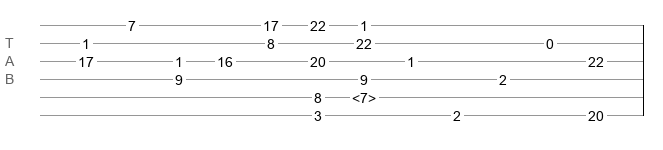0: (546, 36, 554, 46)
1: (82, 36, 90, 46), (175, 54, 183, 64), (360, 18, 368, 28), (407, 54, 415, 64)
16: (217, 54, 233, 64)
17: (78, 54, 94, 64), (263, 18, 279, 28)
2: (453, 108, 461, 118), (499, 72, 507, 82)
20: (310, 54, 326, 64), (588, 108, 604, 118)
22: (310, 18, 326, 28), (356, 36, 372, 46), (588, 54, 604, 64)
3: (314, 108, 322, 118)
7: (128, 18, 136, 28)
8: (267, 36, 275, 46), (314, 90, 322, 100)
9: (175, 72, 183, 82), (360, 72, 368, 82)
harmonic: (352, 90, 376, 100)
